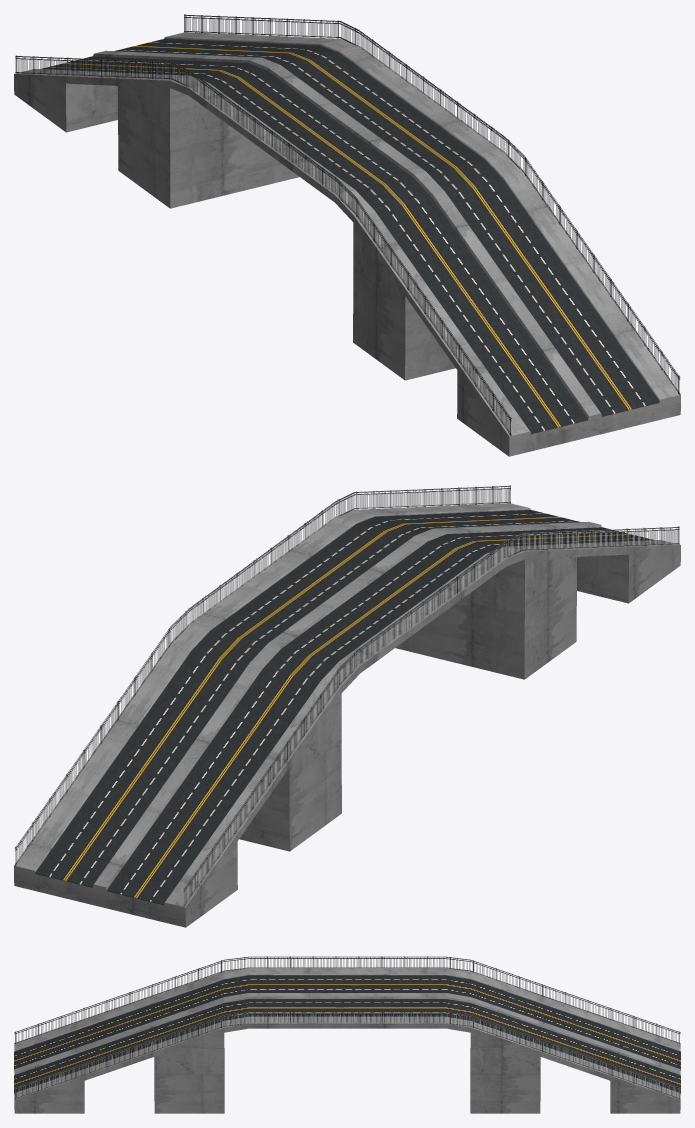
Rendered from Bridge.fbx.
The picture shows the model from 3 angles, top to bottom: view 1: azimuth 30°, elevation 25°; view 2: azimuth 150°, elevation 25°; view 3: azimuth 270°, elevation 25°; orthographic projection. The views are drawn at different scales.
Visible parts, largest first — view 1: bridg_part_2, bridg_part_3, road_1, road_0, bridg_part_1, road_3, road_2, border_6, border_4, road_5, road_4, border_1 (+3 smaller); view 2: bridg_part_3, bridg_part_2, road_5, road_4, bridg_part_1, road_3, road_2, border_1, border_2, road_1, border_4, border_6 (+3 smaller); view 3: bridg_part_2, bridg_part_3, bridg_part_1, road_5, road_1, road_4, road_0, road_3, road_2, border_2, border_1, border_6 (+3 smaller).
Boxes of the visible parts, bbox=[...] form: bridg_part_2: bbox=[353, 173, 680, 456]; bridg_part_3: bbox=[14, 32, 340, 208]; road_1: bbox=[429, 160, 659, 416]; road_0: bbox=[357, 177, 587, 433]; bridg_part_1: bbox=[170, 39, 523, 221]; road_3: bbox=[211, 70, 412, 191]; road_2: bbox=[283, 53, 484, 173]; border_6: bbox=[336, 178, 511, 435]; border_4: bbox=[504, 137, 680, 394]; road_5: bbox=[115, 39, 337, 66]; road_4: bbox=[42, 56, 266, 83]; border_1: bbox=[15, 55, 190, 87]; bridg_part_3: bbox=[14, 644, 341, 927]; bridg_part_2: bbox=[354, 503, 680, 679]; road_5: bbox=[35, 631, 265, 887]; road_4: bbox=[107, 648, 337, 904]; bridg_part_1: bbox=[171, 510, 524, 692]; road_3: bbox=[282, 541, 483, 662]; road_2: bbox=[210, 524, 411, 644]; border_1: bbox=[183, 649, 358, 906]; border_2: bbox=[14, 608, 190, 865]; road_1: bbox=[357, 510, 579, 537]; border_4: bbox=[335, 485, 510, 517]; border_6: bbox=[504, 526, 679, 558]; bridg_part_2: bbox=[14, 971, 224, 1113]; bridg_part_3: bbox=[470, 971, 680, 1113]; bridg_part_1: bbox=[224, 967, 470, 1032]; road_5: bbox=[446, 999, 680, 1094]; road_1: bbox=[14, 999, 248, 1094]; road_4: bbox=[446, 975, 680, 1070]; road_0: bbox=[14, 975, 248, 1070]; road_3: bbox=[249, 975, 445, 992]; road_2: bbox=[249, 999, 445, 1016]; border_2: bbox=[446, 1012, 680, 1099]; border_1: bbox=[446, 956, 680, 1043]; border_6: bbox=[14, 956, 248, 1043].
Size of the model in its own units: 233 by 196 by 1166.
